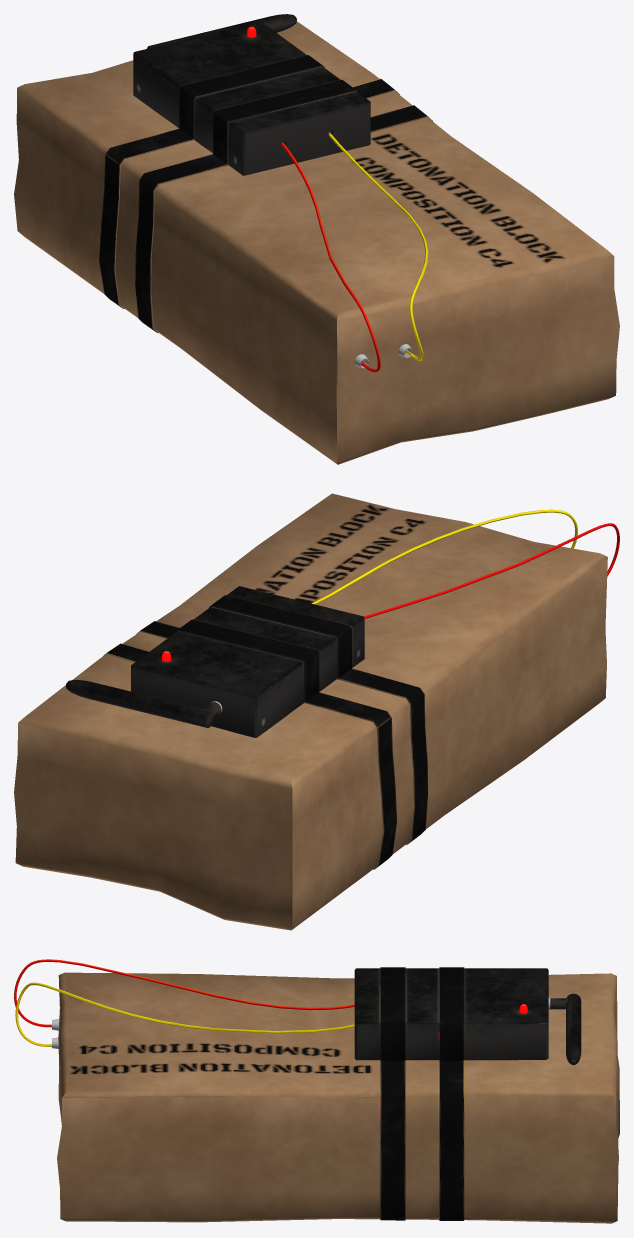
Rendered from c4-world.glb.
3 renders of one model, top to bottom at view 1: azimuth 30°, elevation 25°; view 2: azimuth 150°, elevation 25°; view 3: azimuth 270°, elevation 25°, orthographic. The views are drawn at different scales.
Parts seen in each view (by area): view 1: C4; view 2: C4; view 3: C4.
Part boxes in pixels (x1,y1,x2,y2): C4: [14, 14, 619, 464]; C4: [14, 493, 619, 930]; C4: [14, 959, 619, 1223].
Bounding box in the file's own units: 0.1058 × 0.0725 × 0.22.
Materials: 1 (1 with a texture image).
